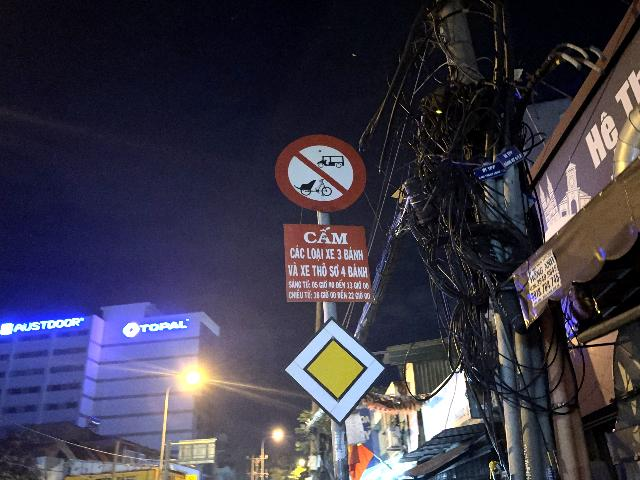bat-dau-duong-uu-tien: (281, 317, 387, 427)
cam-xe-3-banh-xe-tho-so-4-banh: (274, 134, 367, 212)
